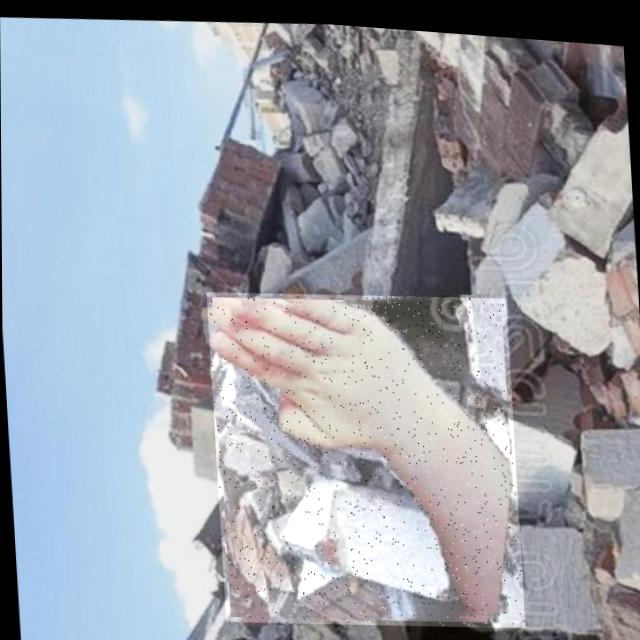Person in Rubble: (206, 272, 525, 635)
